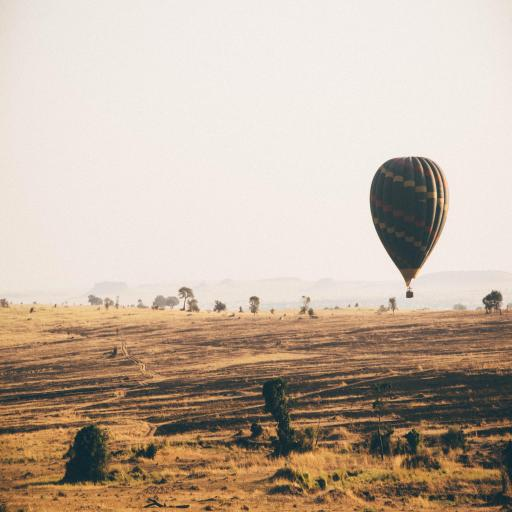hot air ballon: (369, 148, 452, 300)
